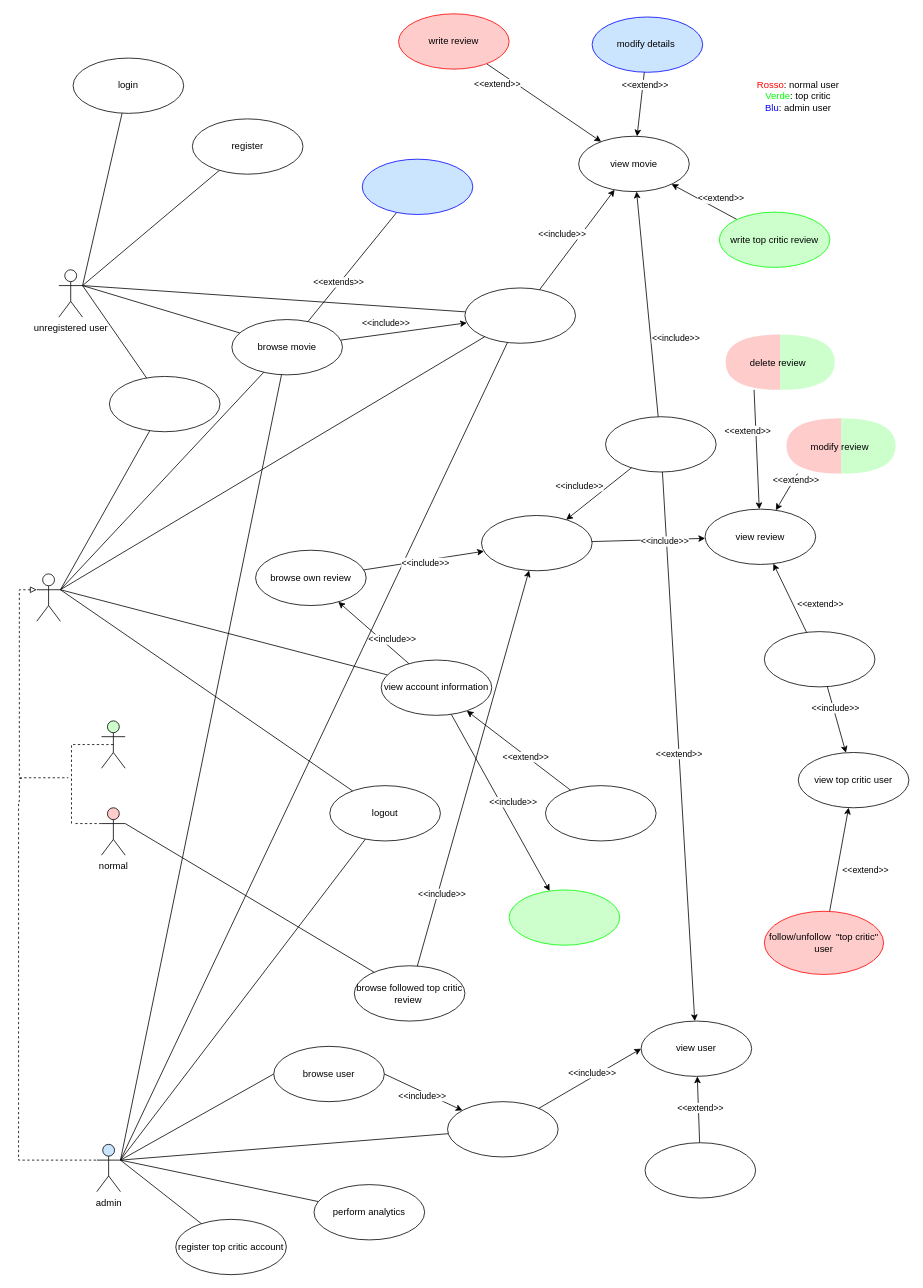
The diagram is 923 pixels wide and 1288 high, and some of its shapes have lost their labels. Each missing label, with the centre of its shape:
"add movie" goes at point 417,186.
"ban user" goes at point 700,1170.
"browse HoF" goes at point 164,404.
"browse review" goes at point 660,444.
"find movie" goes at point 520,315.
"find review" goes at point 536,543.
"find top critic user" goes at point 819,659.
"find user" goes at point 502,1129.
"modify account information" goes at point 600,813.
"registered user" goes at point 48,597.
"top critic" goes at point 113,744.
"view number of followers" goes at point 564,917.
